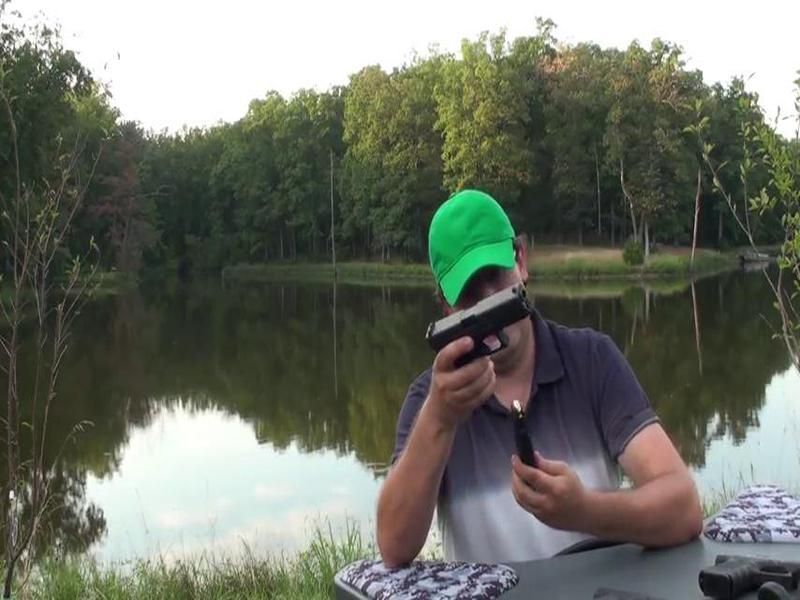Pistola: (411, 264, 559, 417)
